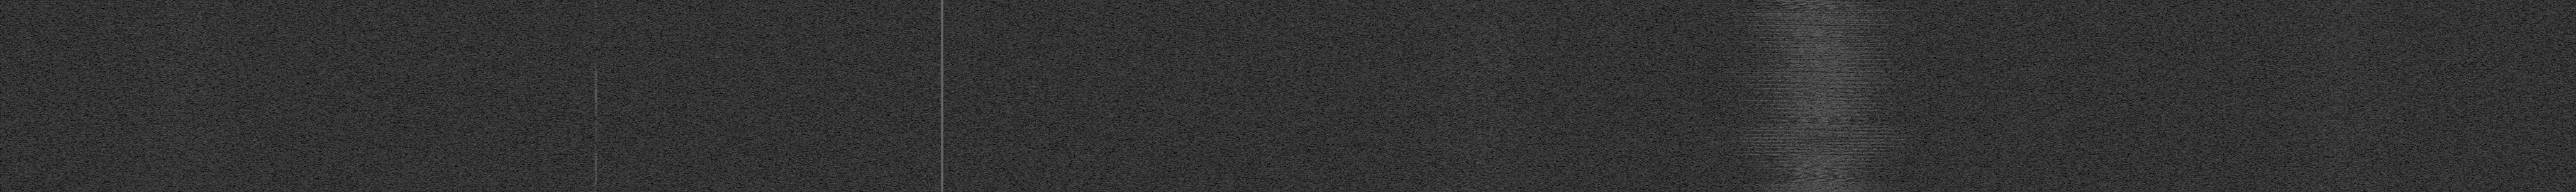wv_cw: (940, 0, 945, 192)
wv_lsb: (593, 121, 598, 192), (593, 64, 598, 117), (593, 0, 598, 21), (593, 38, 598, 48), (595, 49, 596, 51), (595, 23, 596, 25)
wv_wbfm: (1722, 0, 1919, 192), (120, 7, 237, 125), (2275, 0, 2413, 66), (2280, 117, 2400, 192), (1414, 33, 1552, 87), (113, 144, 245, 171), (2282, 66, 2395, 94), (1413, 167, 1533, 192), (125, 118, 233, 144), (1416, 144, 1536, 167), (1416, 10, 1533, 31), (1426, 105, 1539, 126), (1413, 128, 1548, 144), (122, 167, 230, 182), (1418, 0, 1523, 13), (2275, 94, 2389, 105), (1426, 87, 1523, 100), (2293, 105, 2389, 115), (1449, 100, 1534, 108), (131, 185, 195, 192), (161, 0, 202, 7), (191, 181, 230, 187), (1419, 125, 1483, 128), (141, 143, 166, 148), (1483, 85, 1546, 87), (172, 182, 191, 187), (141, 3, 164, 7), (202, 0, 222, 3), (2274, 117, 2313, 118), (1503, 158, 1541, 159), (215, 136, 233, 139), (2354, 115, 2390, 117), (1523, 181, 1538, 184), (200, 189, 215, 192), (2389, 100, 2403, 103), (1424, 92, 1437, 95), (1525, 189, 1536, 192), (1544, 181, 1556, 184), (136, 143, 146, 146), (1483, 33, 1502, 34), (237, 120, 245, 123), (1526, 179, 1543, 181), (1441, 100, 1449, 103), (2394, 115, 2410, 117), (2280, 113, 2297, 115), (2374, 95, 2390, 97), (237, 182, 241, 187), (117, 187, 131, 189), (107, 108, 120, 110), (232, 71, 238, 74), (1521, 167, 1534, 169), (1534, 117, 1541, 120), (2397, 75, 2403, 79), (222, 172, 233, 174), (210, 5, 222, 7), (223, 190, 235, 192), (158, 182, 163, 185), (238, 130, 243, 133), (133, 3, 143, 5), (1414, 118, 1424, 120), (2397, 80, 2405, 82), (232, 176, 235, 179), (233, 172, 237, 176), (243, 172, 250, 174), (237, 176, 241, 177), (117, 171, 122, 172), (240, 146, 245, 148), (235, 139, 240, 141), (237, 36, 241, 38), (237, 11, 241, 13), (1539, 103, 1544, 105), (118, 126, 122, 128), (1548, 158, 1551, 159)
